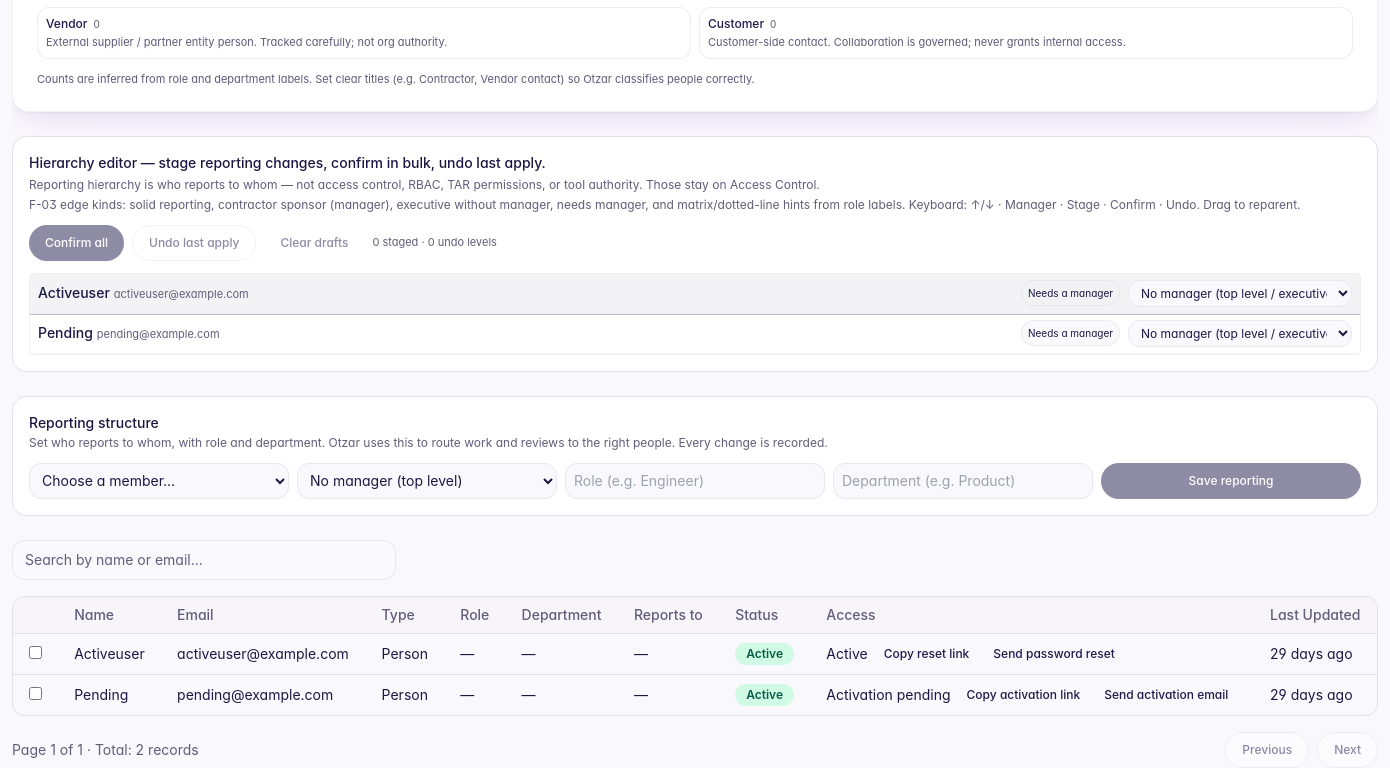
Scenario: [PASSWORD-LIFECYCLE] Users rows — reset for active, activation for pending, never blurred › active member: Send password reset posts once; copy claims acceptance and never-see-password; pending member keeps activation
(page scrolled)
expect the number of buttons with test id "users-send-activation-email" is 1: met, box [1096,682,1236,706]
Step 1. Click the button with test id "users-send-reset-email" → [1054, 654], box [985,642,1123,666]
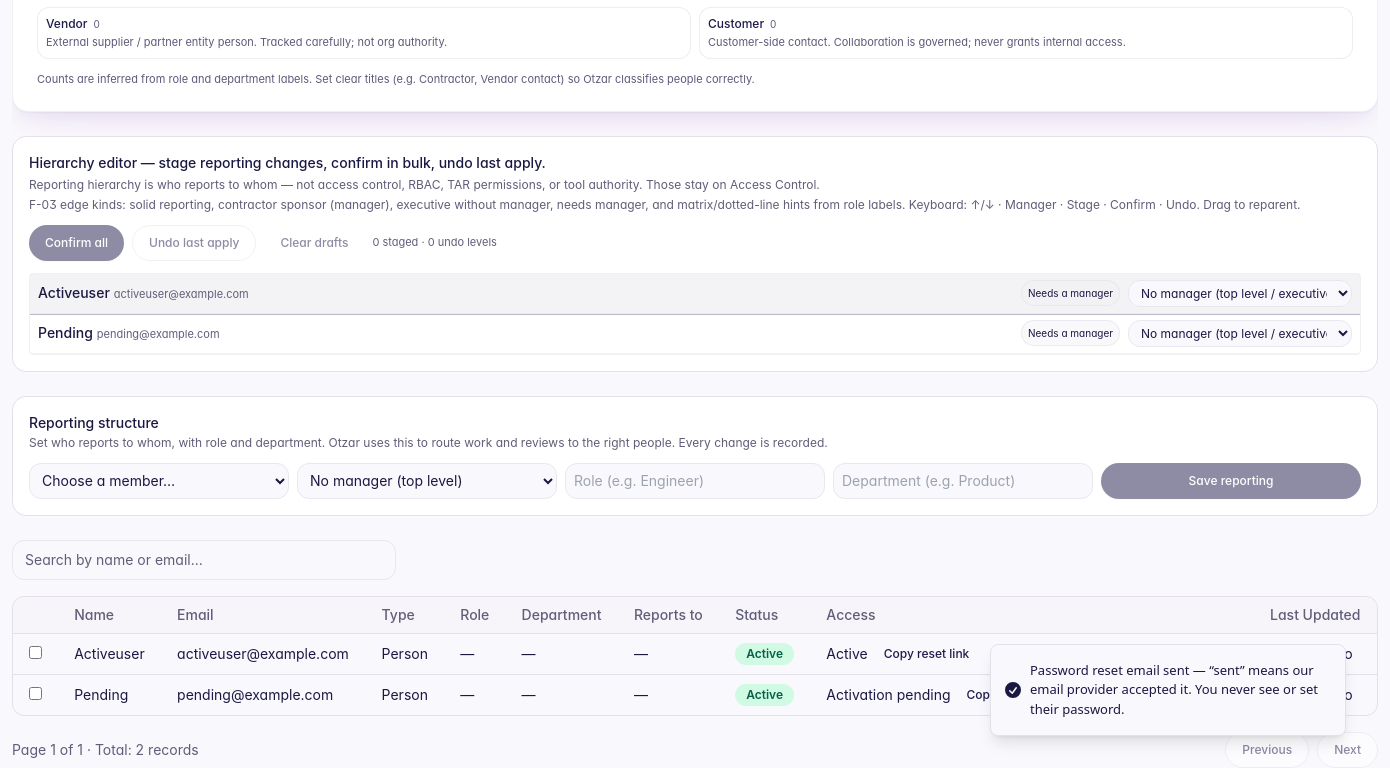
expect the text "provider accepted it" shows "Password reset email sent": met, box [1030,660,1318,718]
expect the text "provider accepted it" shows "never see or set their password": met, box [1030,660,1318,718]
